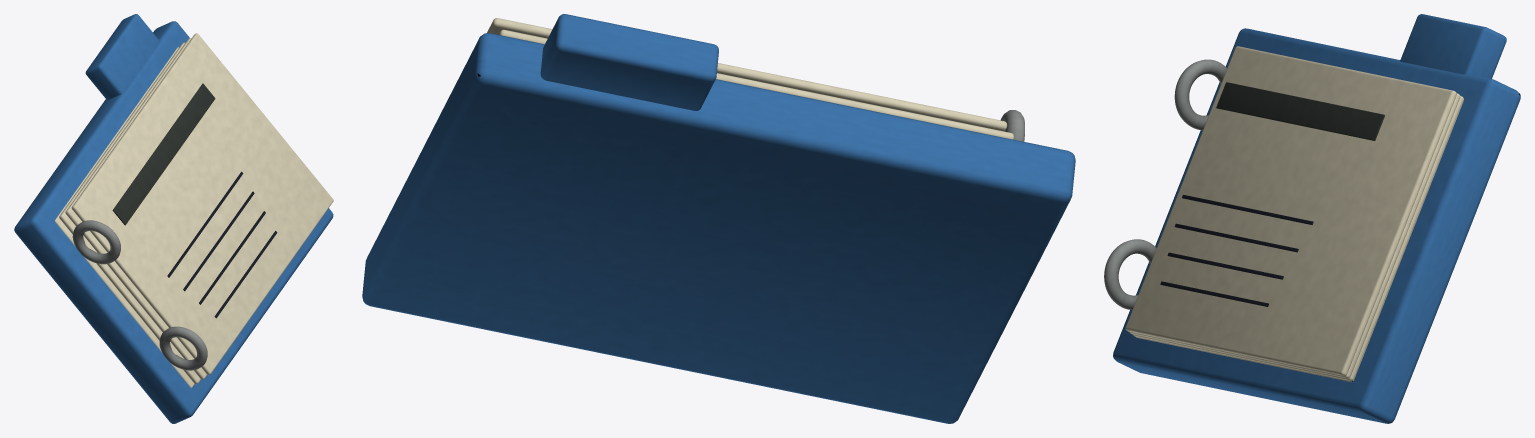
3 renders of one model, left to right at view 1: azimuth 30°, elevation 25°; view 2: azimuth 150°, elevation 25°; view 3: azimuth 270°, elevation 25°, orthographic. The views are drawn at different scales.
Parts seen in each view (by area): view 1: Rigid report cover; view 2: Rigid report cover; view 3: Rigid report cover.
Boxes of the visible parts, box(x1,y1,x2,y2) form: Rigid report cover: box(14, 14, 333, 423); Rigid report cover: box(362, 14, 1075, 423); Rigid report cover: box(1104, 14, 1520, 423).
Bounding box in the file's own units: 1.37 × 1.1 × 1.03.
Materials: 1 (1 with a texture image).
